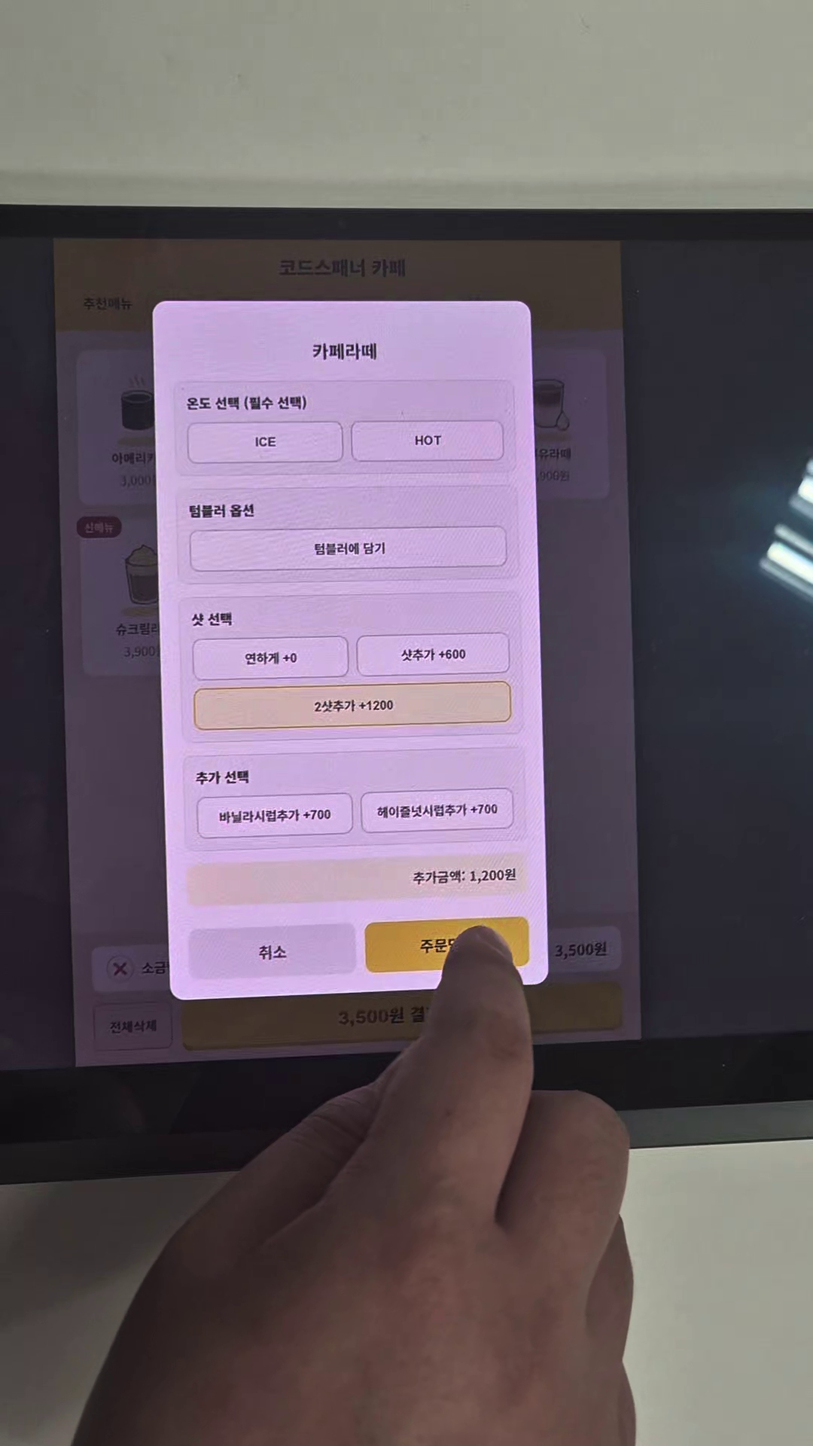action_button: (190, 924, 354, 977), (368, 919, 528, 970)
menu_name: (311, 342, 379, 361)
option_button: (197, 682, 511, 728), (191, 530, 505, 568), (195, 791, 353, 836), (360, 788, 514, 830), (189, 420, 342, 460), (353, 421, 505, 459), (361, 638, 510, 674), (195, 640, 345, 674)
popup_modal: (152, 301, 549, 1002)
